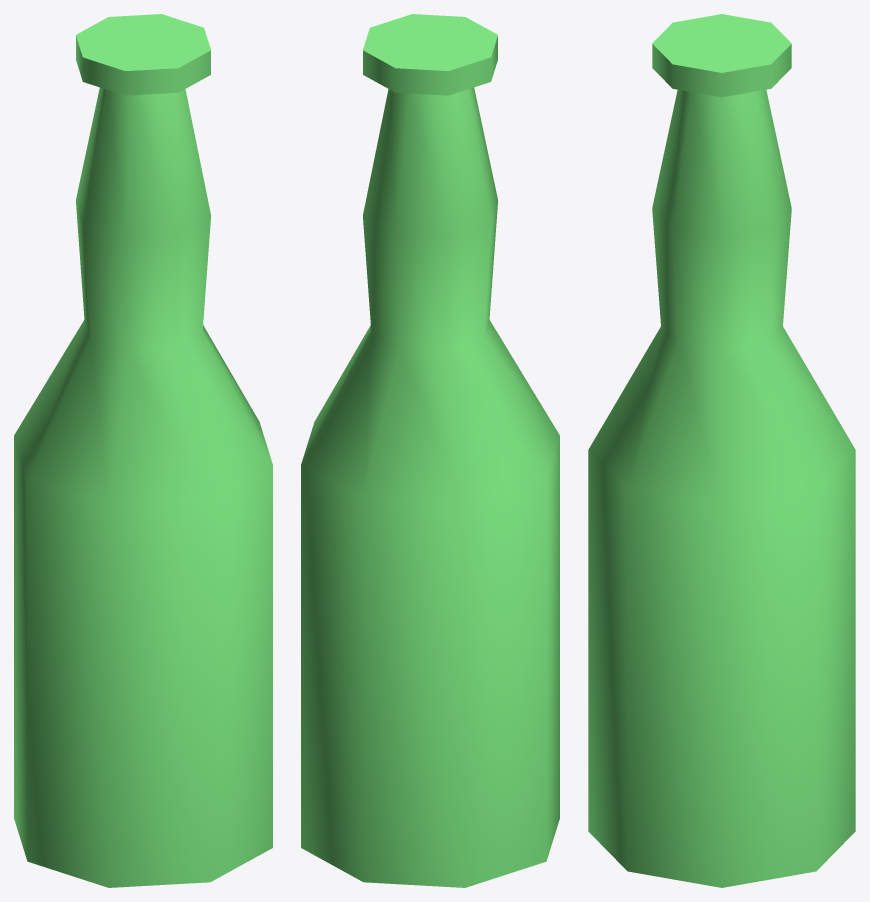
The model's file is env_Cerveja.fbx.
3 renders of one model, left to right at view 1: azimuth 30°, elevation 25°; view 2: azimuth 150°, elevation 25°; view 3: azimuth 270°, elevation 25°, orthographic.
Visible parts, largest first — view 1: env_cerveja; view 2: env_cerveja; view 3: env_cerveja.
Part boxes in pixels (x1,y1,x2,y2): env_cerveja: (14, 14, 272, 887); env_cerveja: (301, 14, 559, 887); env_cerveja: (588, 14, 855, 887).
Size of the model in its own units: 179 by 583 by 179.
